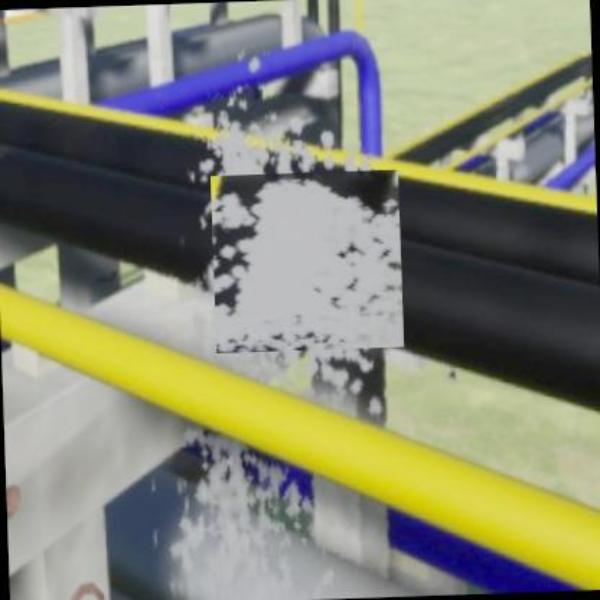water: (157, 63, 461, 512)
